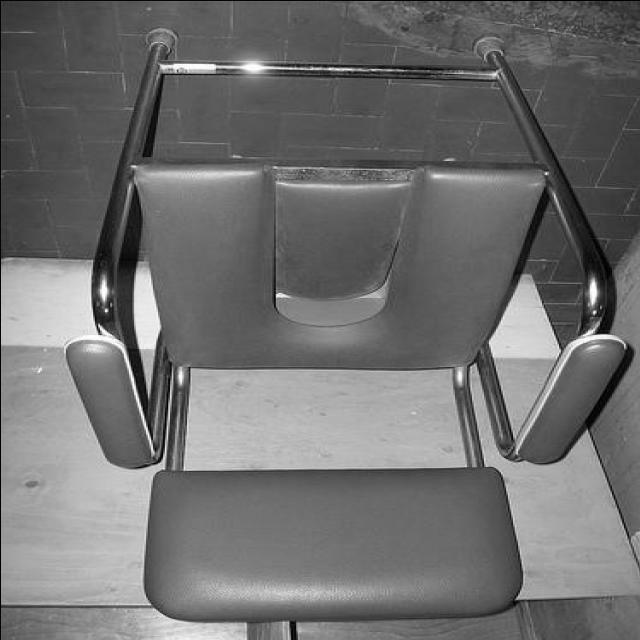chair: (59, 34, 634, 620)
